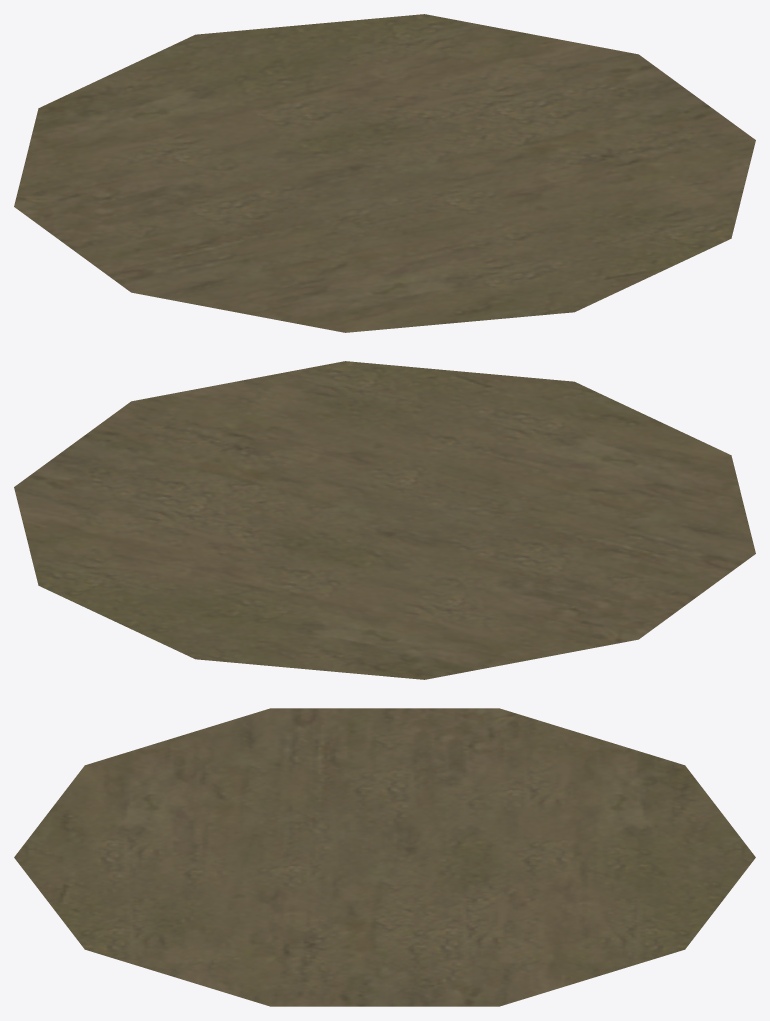
Rendered from scene_luoliante_shubaobian02.FBX.
3 renders of one model, top to bottom at view 1: azimuth 30°, elevation 25°; view 2: azimuth 150°, elevation 25°; view 3: azimuth 270°, elevation 25°, orthographic. The views are drawn at different scales.
Visible parts, largest first — view 1: scene_luoliante_shubaobian02; view 2: scene_luoliante_shubaobian02; view 3: scene_luoliante_shubaobian02.
Part boxes in pixels (<box>): scene_luoliante_shubaobian02: <box>14,14,755,332</box>; scene_luoliante_shubaobian02: <box>14,361,755,679</box>; scene_luoliante_shubaobian02: <box>14,708,755,1006</box>.
Bounding box in the file's own units: 127 × 2.63e-05 × 134.
